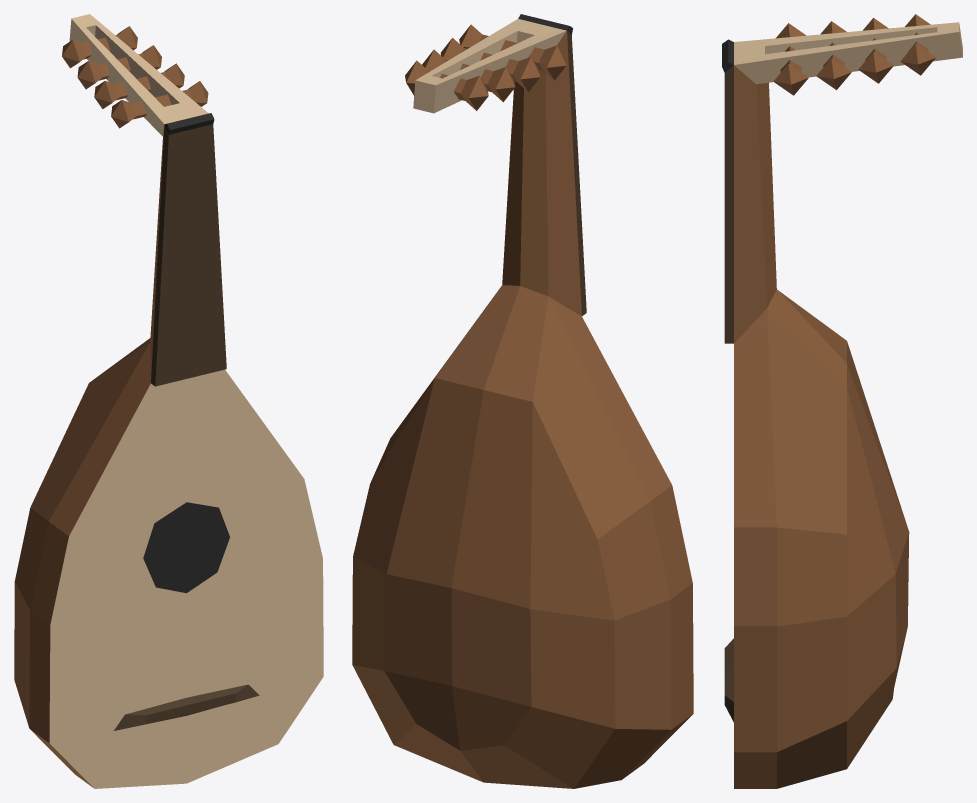
File: music_guitar-lute.fbx
The picture shows the model from 3 angles, left to right: view 1: azimuth 30°, elevation 25°; view 2: azimuth 150°, elevation 25°; view 3: azimuth 270°, elevation 25°; orthographic projection. The views are drawn at different scales.
Visible parts, largest first — view 1: music_guitar_lute; view 2: music_guitar_lute; view 3: music_guitar_lute.
Boxes of the visible parts, bbox=[...] form: music_guitar_lute: bbox=[14, 14, 323, 788]; music_guitar_lute: bbox=[352, 14, 693, 788]; music_guitar_lute: bbox=[722, 14, 962, 788].
Bounding box in the file's own units: 83.22 × 200 × 59.61.
